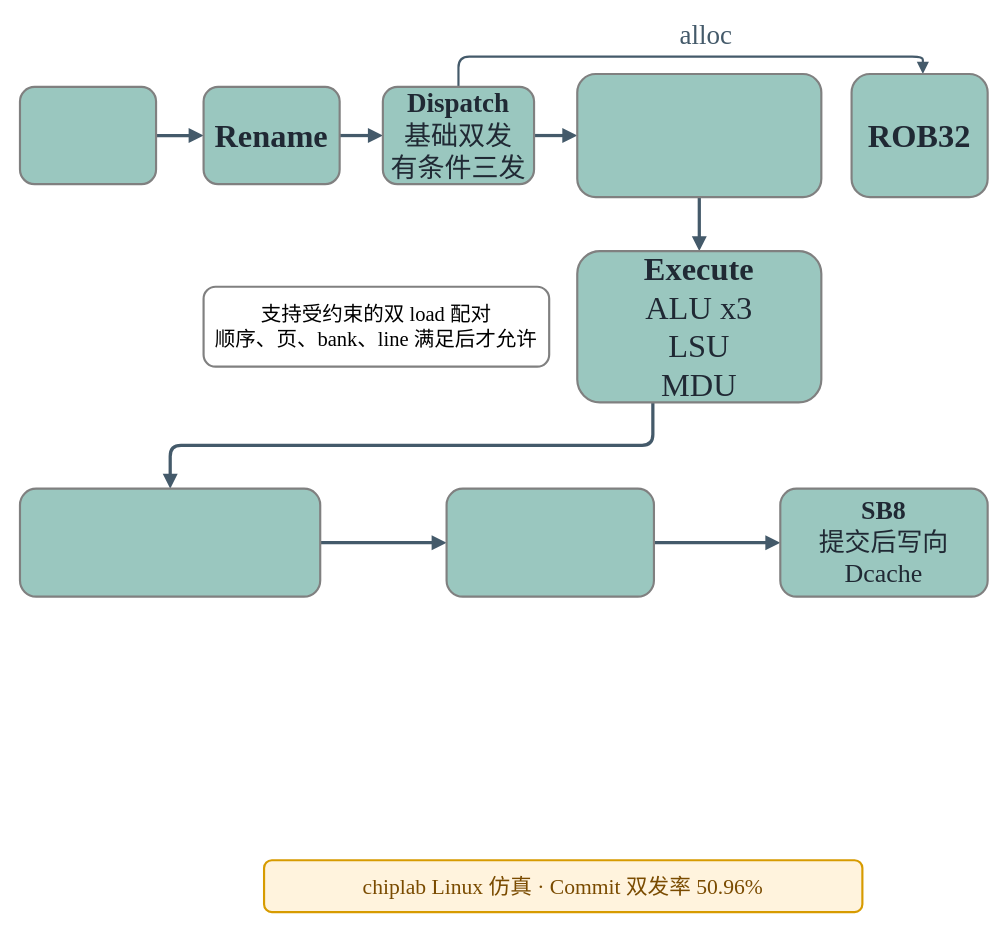
This 1007x931 diagram has some shape labels left out. The box of each missing label's shape, as (x1, y1, x2, y2) in pixels:
Commit 基础2条休 有条件可多一对退休: (18, 487, 321, 597)
Decode x3: (18, 85, 157, 185)
Reservation Stations RS_ALUx3 5项 RS_MEM 8项 RS_MDU 2项: (576, 72, 822, 198)
STQ16 提交前保存 store: (445, 487, 654, 597)
